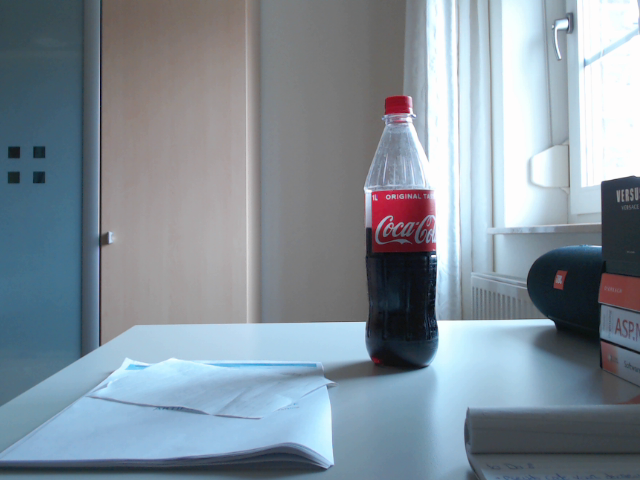bottle: (361, 95, 440, 370)
